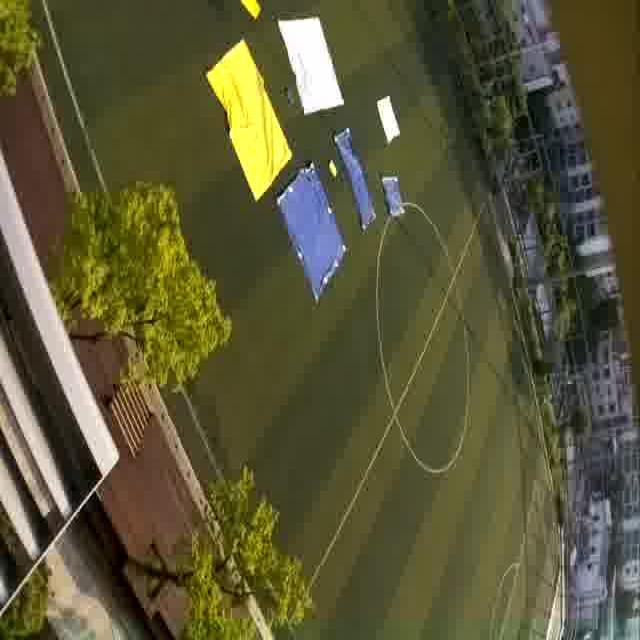danger: (284, 186, 342, 284), (344, 150, 375, 220), (380, 172, 409, 220)
safety: (276, 15, 356, 116), (374, 94, 405, 144)
warning: (224, 65, 276, 163), (238, 0, 265, 19)
